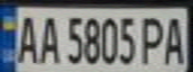0: (100, 14, 121, 65)
5: (60, 11, 84, 65), (118, 12, 142, 65)
8: (81, 12, 103, 65)
A: (157, 12, 190, 65), (12, 11, 42, 65), (33, 11, 60, 64)
P: (139, 12, 169, 65)
